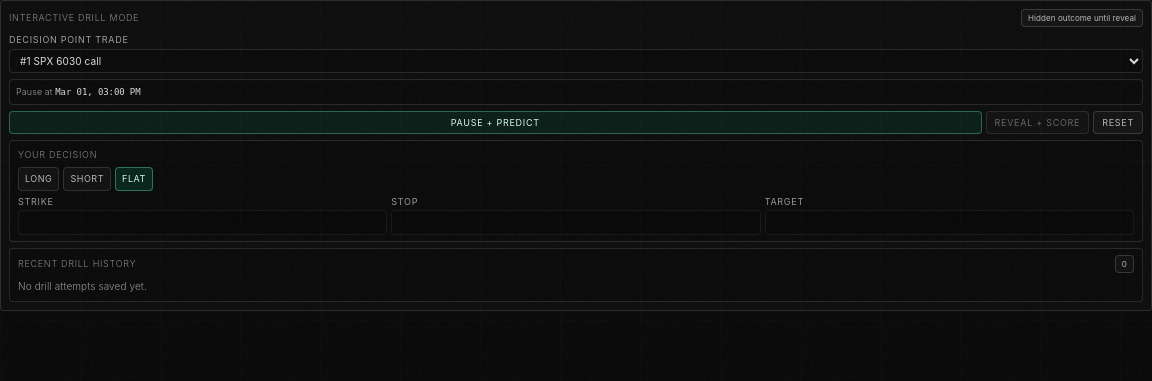
spx-command-center/replay-drill-mode › requires strike/stop/target for long/short submissions
Step 1. Click the button with test id "spx-replay-drill-start" → (495,122), box [9, 111, 982, 134]
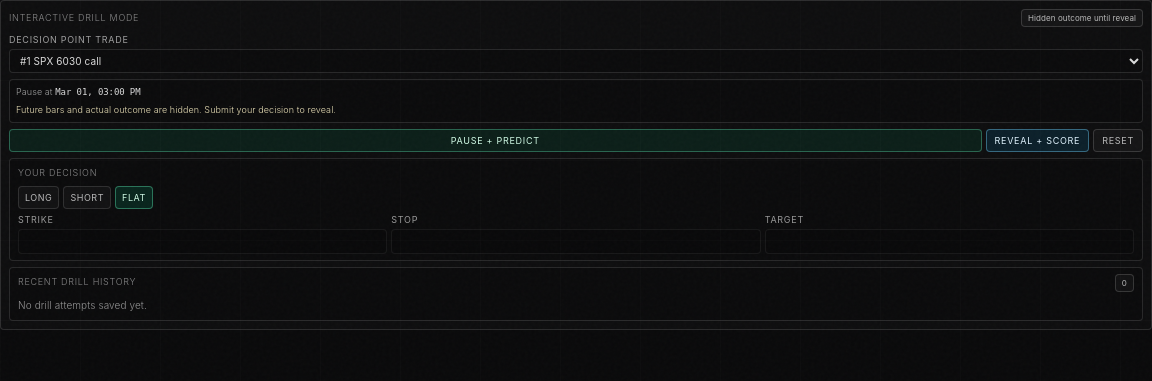
Step 2. Click the button with test id "spx-replay-drill-direction-short" → (87,197), box [63, 186, 111, 209]
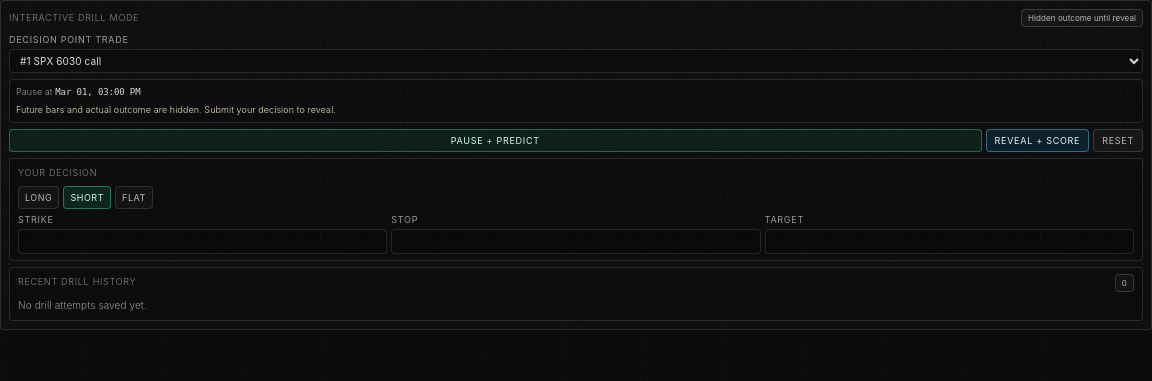
Step 3. Click the button with test id "spx-replay-drill-reveal" → (1037,141), box [986, 129, 1089, 152]
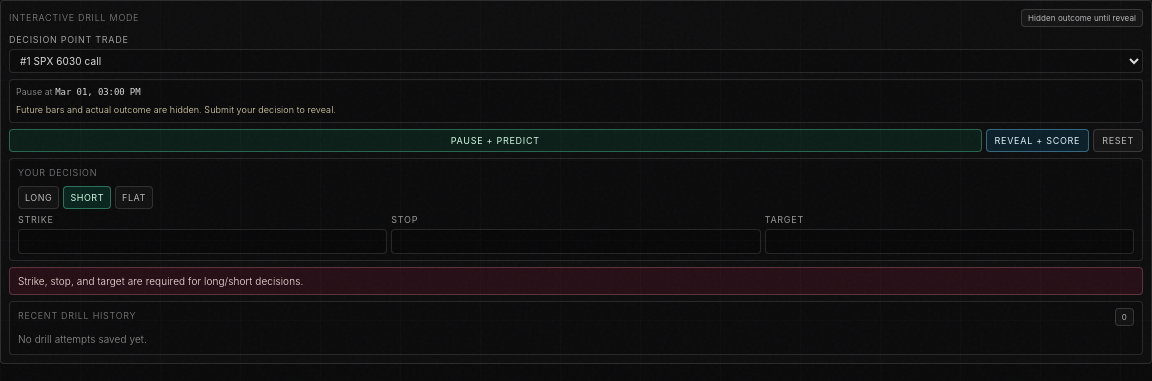
Result: the text "Strike, stop, and target are required" is shown at [18, 275, 303, 287]
